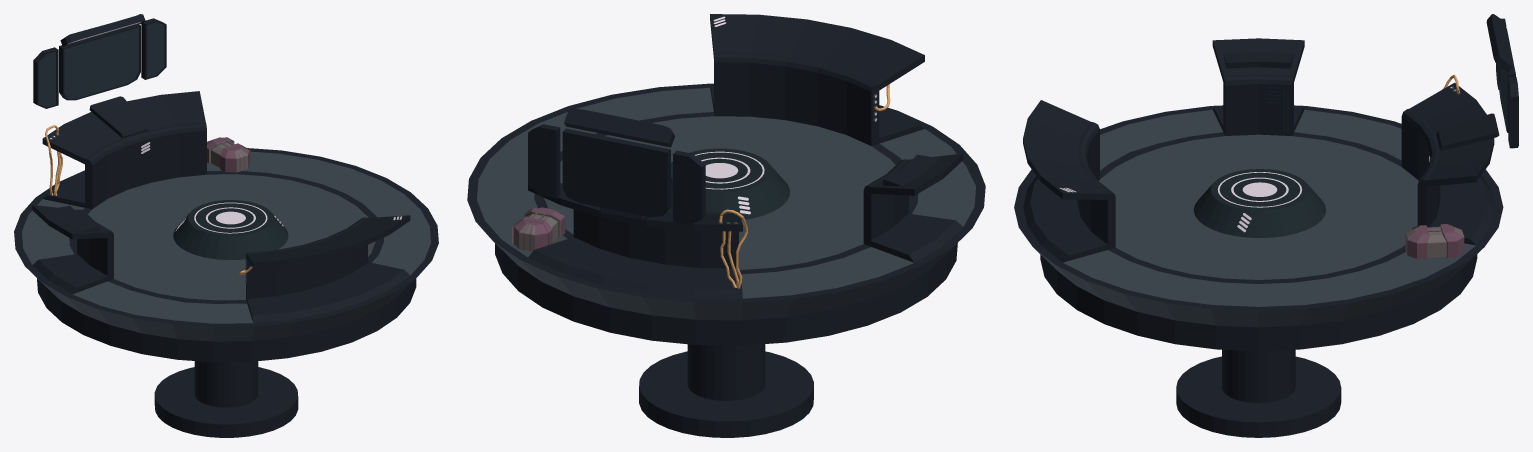
File: Ver2.fbx
3 views of the same model, side by side, from view 1: azimuth 30°, elevation 25°; view 2: azimuth 150°, elevation 25°; view 3: azimuth 270°, elevation 25° (orthographic). The views are drawn at different scales.
Visible parts, largest first — view 1: MainPlatform, Monitor, 3DVisPlatform, Crate; view 2: MainPlatform, Monitor, 3DVisPlatform, Crate; view 3: MainPlatform, 3DVisPlatform, Monitor, Crate.
Part boxes in pixels (x1=…): MainPlatform: x1=14, y1=91, x2=438, y2=437; Monitor: x1=33, y1=14, x2=166, y2=108; 3DVisPlatform: x1=173, y1=200, x2=288, y2=259; Crate: x1=207, y1=137, x2=250, y2=172; MainPlatform: x1=467, y1=14, x2=985, y2=437; Monitor: x1=528, y1=109, x2=705, y2=224; 3DVisPlatform: x1=669, y1=148, x2=789, y2=220; Crate: x1=512, y1=207, x2=565, y2=251; MainPlatform: x1=1014, y1=38, x2=1503, y2=437; 3DVisPlatform: x1=1193, y1=169, x2=1326, y2=237; Monitor: x1=1486, y1=14, x2=1518, y2=148; Crate: x1=1405, y1=224, x2=1464, y2=259.
Bounding box in the file's own units: 816 × 660 × 842.
